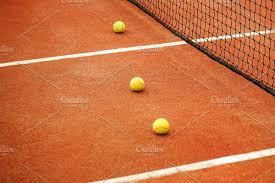tennis_ball: (151, 117, 170, 136), (129, 77, 144, 92), (112, 20, 125, 33)
